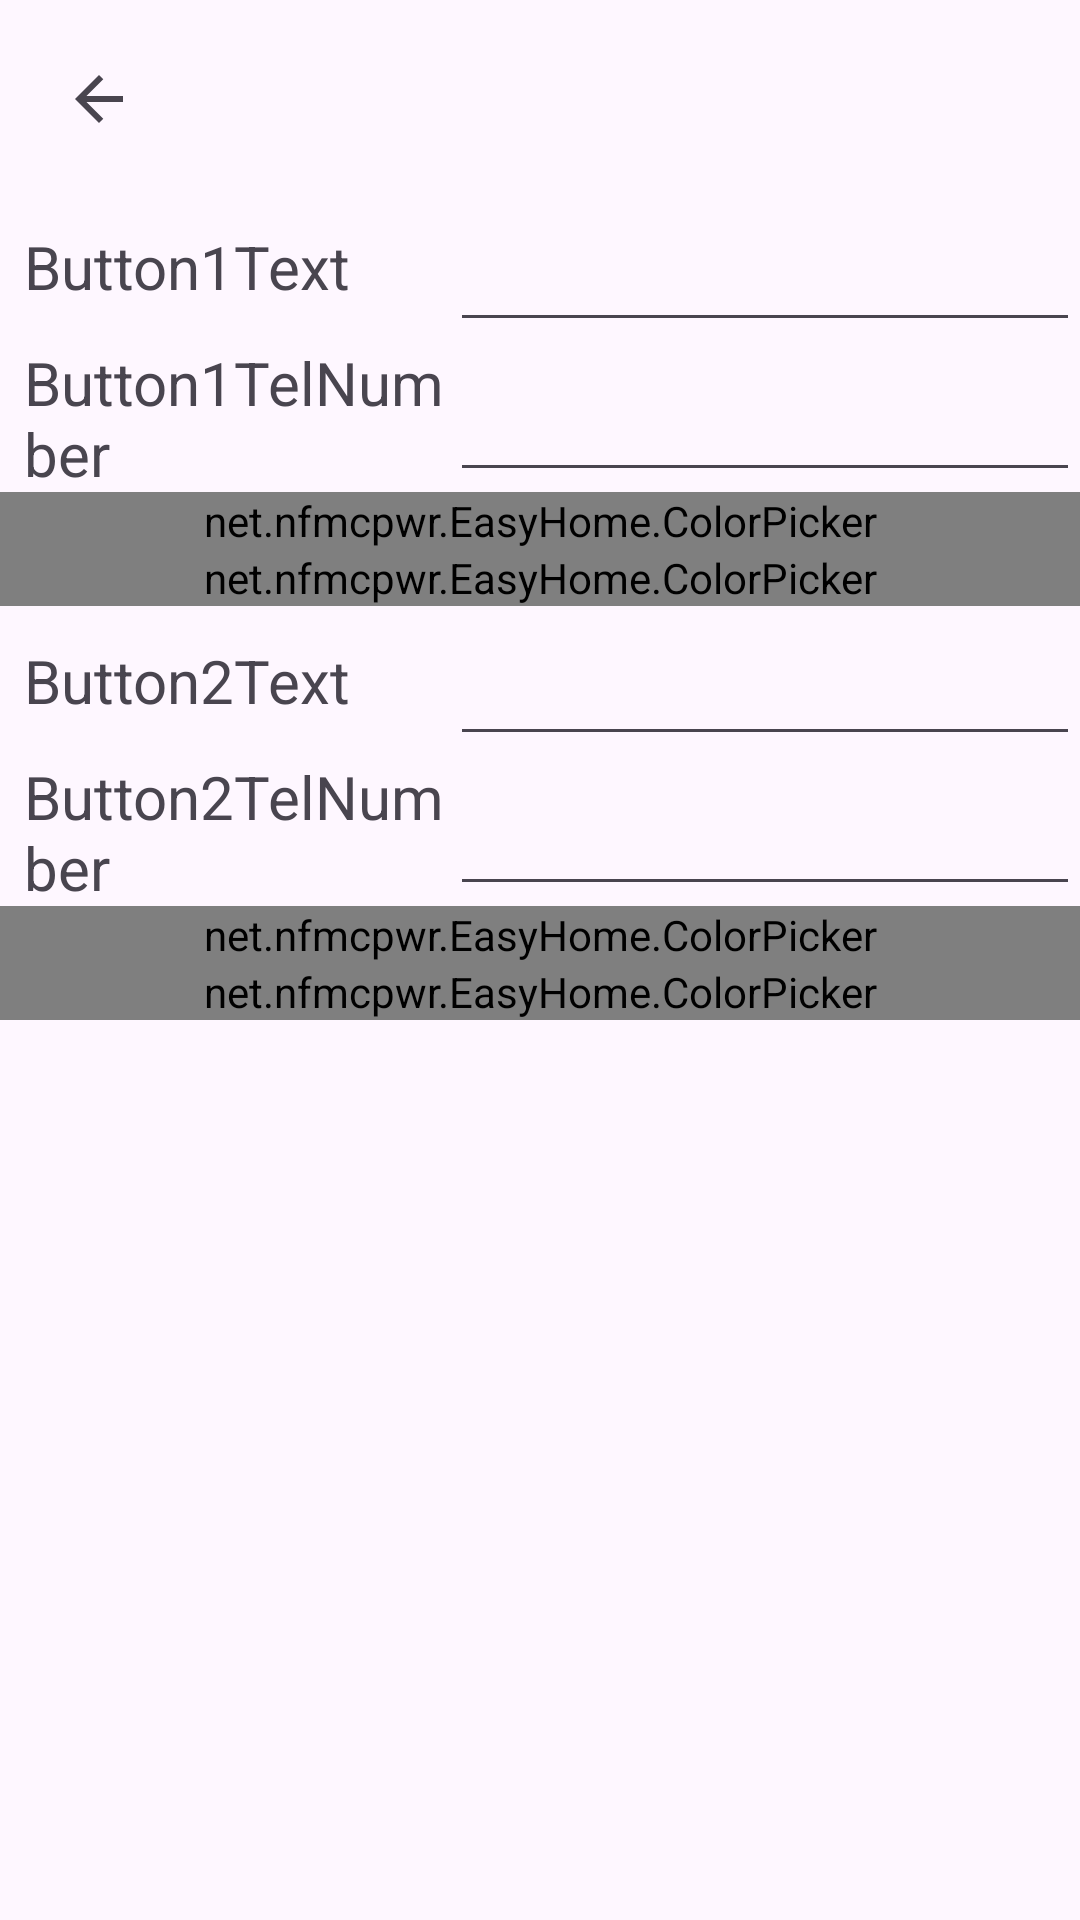

Where icons sit on this 1080px×1920px app screen, as (x1, y1, x2, y2):
back: (75, 75, 123, 123)
